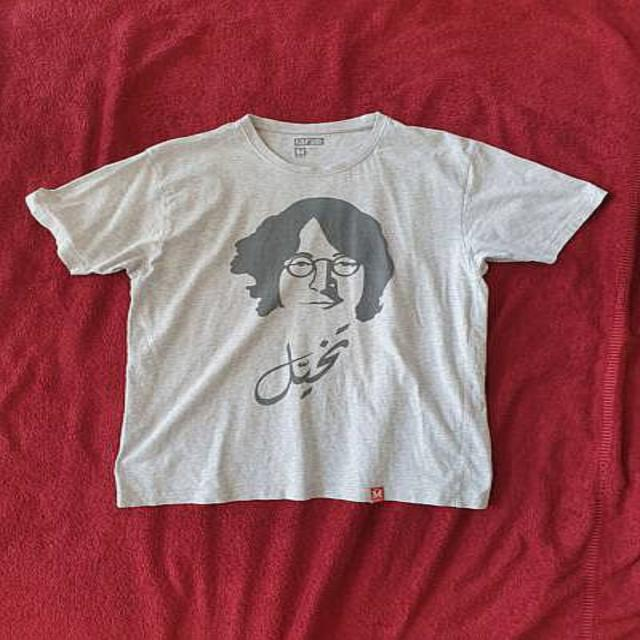T_SHIRT: (19, 102, 640, 516)
